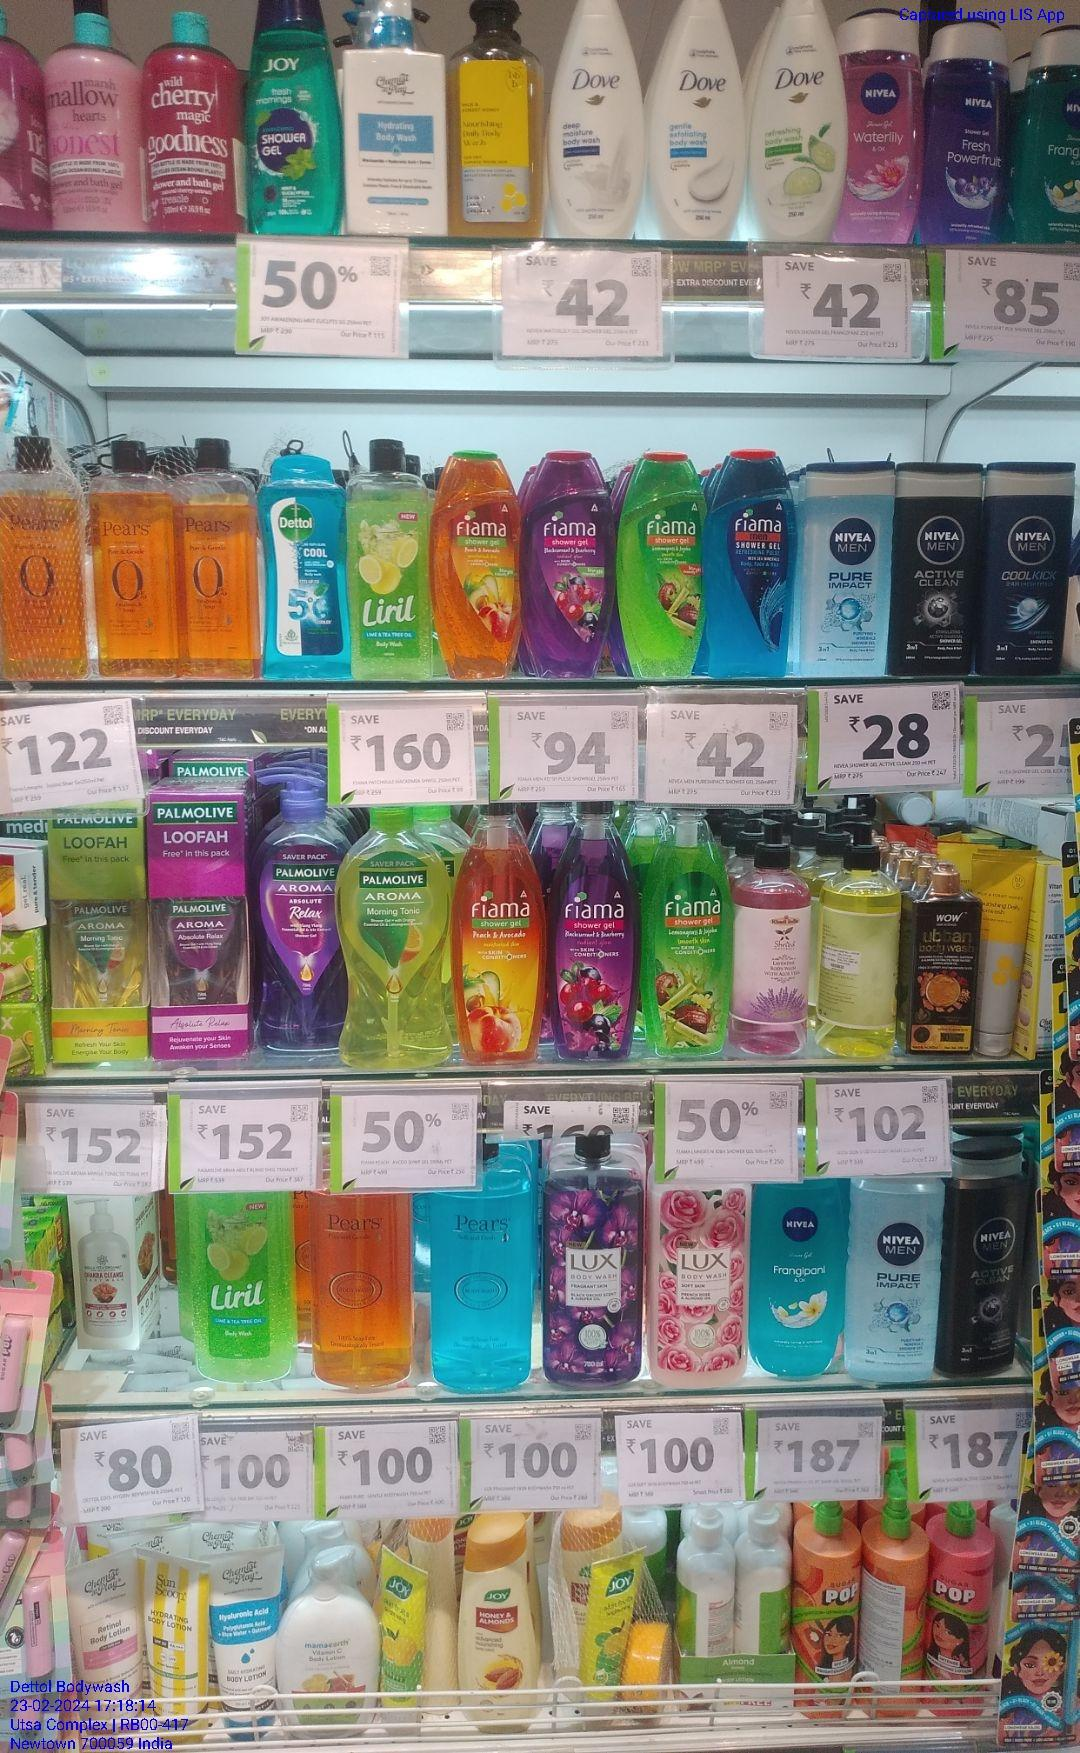Dettol_Bodywash_Cool: (258, 453, 349, 682)
Dove_Deep_Moisture_Body_Wash_250ML: (546, 0, 642, 240)
Dove_Gentle_Exfoliating_Body_Wash_250ML: (647, 0, 743, 239)
Dove_Refreshing_Body_Wash_250ML: (745, 0, 843, 245)
Fiama_Shower_Gel_Lemongrass_and_Jojoba_250ML: (621, 448, 698, 682)
Joy_Shower_Gel_Mint_and_Eucalyptus_250ML: (247, 0, 340, 238)
Liril_Lime_and_Tea_Tree_Oil_Body_Wash_250ML: (348, 438, 433, 684)
Nivea_Shower_Gel_Frangipani_and_Oil_250ML: (1015, 29, 1080, 242)
Nivea_Shower_Gel_Fresh_Powerfruit_250ML: (920, 15, 1005, 248)
Nivea_Shower_Gel_Waterlily_and_Oil_250ML: (842, 8, 920, 245)
